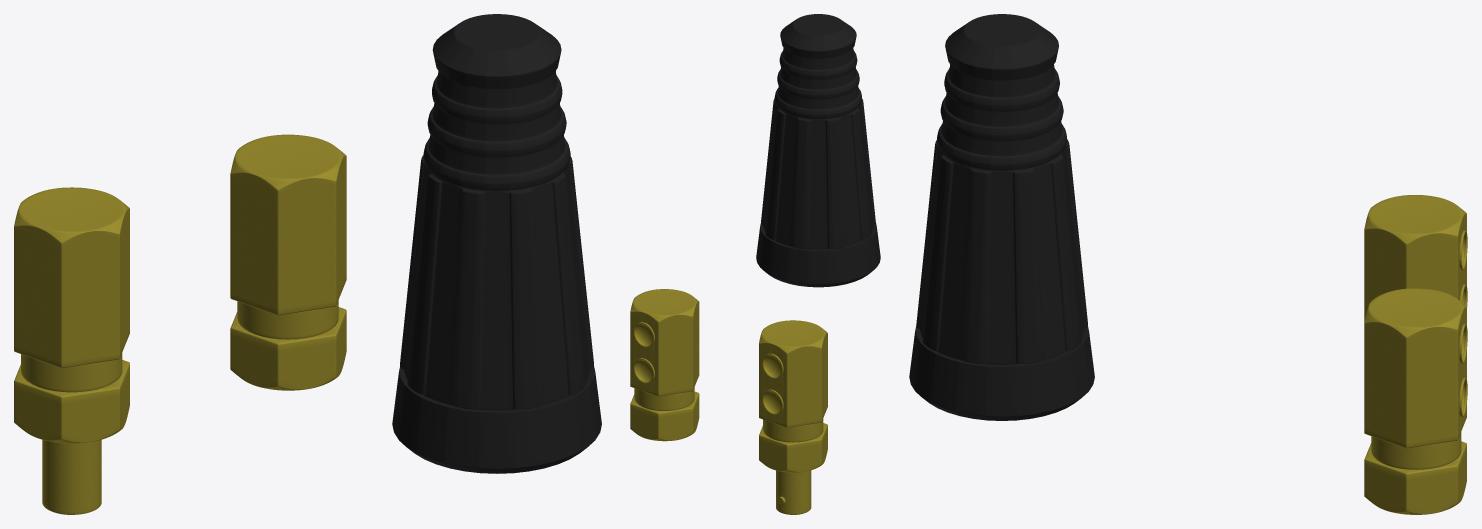
3 views of the same model, side by side, from view 1: azimuth 30°, elevation 25°; view 2: azimuth 150°, elevation 25°; view 3: azimuth 270°, elevation 25° (orthographic). The views are drawn at different scales.
Visible parts, largest first — view 1: nut_Nut_002, Object002, Object001; view 2: nut_Nut_002, Object002, Object001; view 3: nut_Nut_002, Object001, Object002.
Part boxes in pixels (<box>): nut_Nut_002: <box>392,14,601,473</box>; Object002: <box>14,187,129,514</box>; Object001: <box>230,134,346,390</box>; nut_Nut_002: <box>756,14,880,287</box>; Object002: <box>759,320,827,514</box>; Object001: <box>630,289,699,441</box>; nut_Nut_002: <box>909,14,1094,420</box>; Object001: <box>1364,288,1467,514</box>; Object002: <box>1364,195,1467,321</box>.
Size of the model in its own units: 154 by 261 by 251.
1 material, 1 textured.
